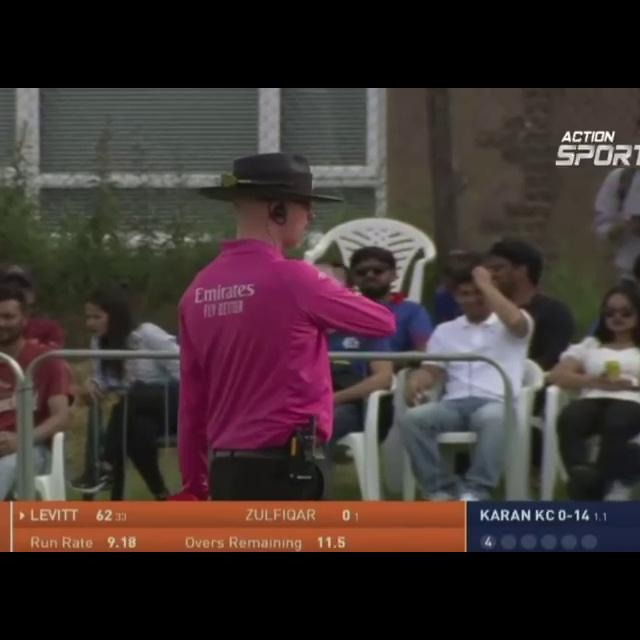umpire: (137, 142, 436, 499)
